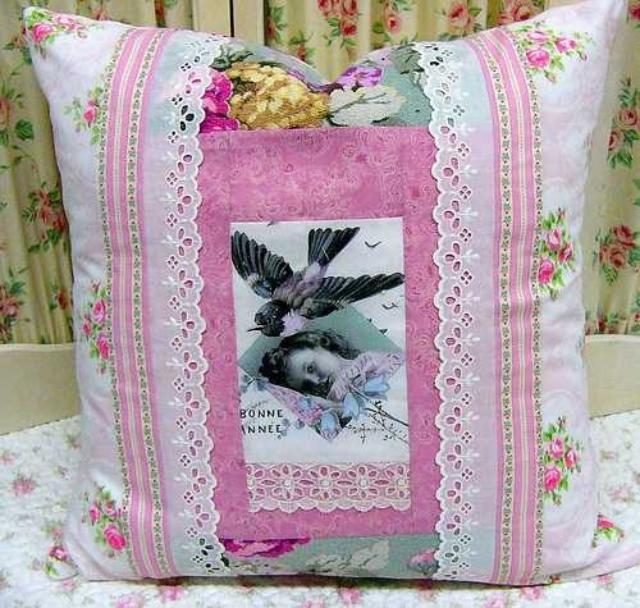pillow: (19, 0, 637, 584)
